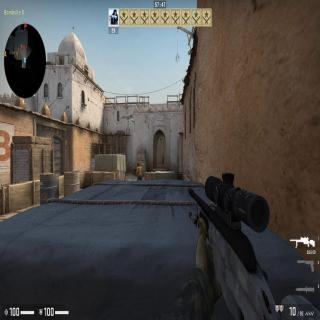T-Body: (136, 162, 143, 182), (162, 155, 164, 164)
T-Head: (138, 162, 140, 168), (162, 156, 164, 157)
